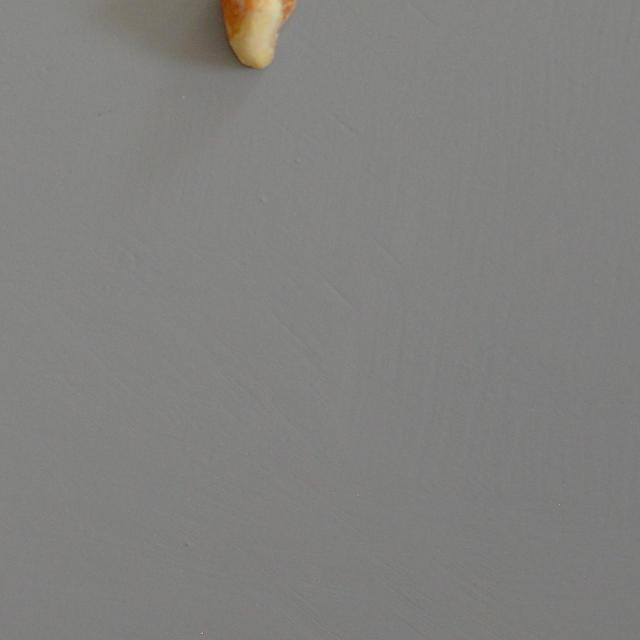dañado: (215, 0, 306, 70)
